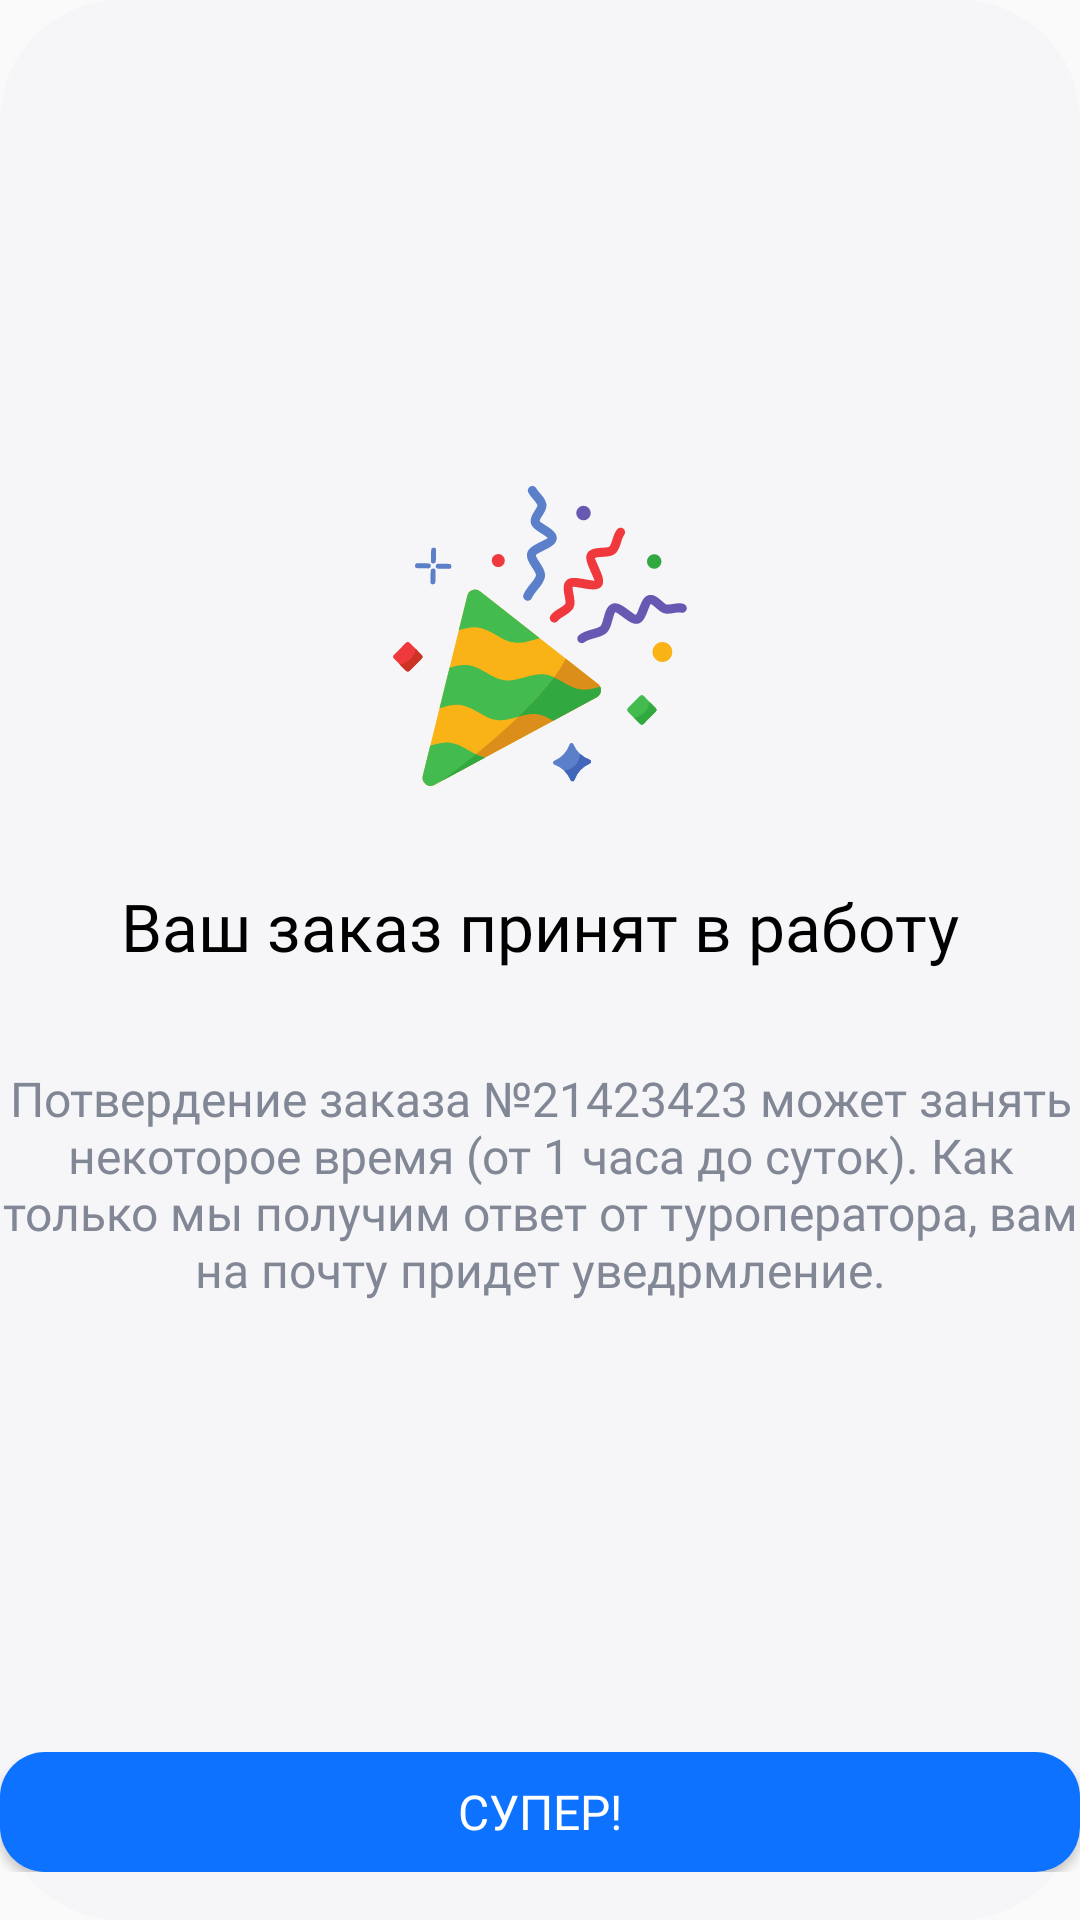

Icon click points for this 1080*1920 phone screenshot, format [x,y]:
party confetti: [540,636]
